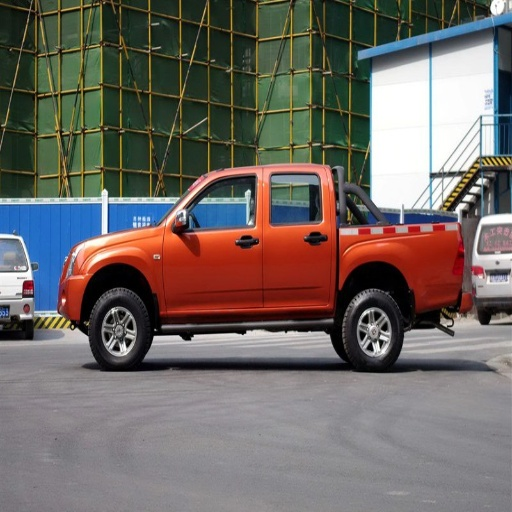back_left_door: (264, 170, 331, 306)
trunk: (332, 225, 460, 315)
